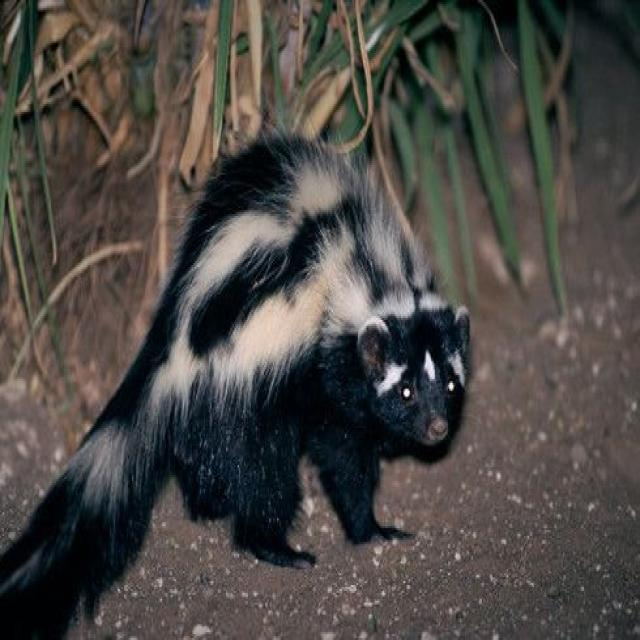Skunk: (0, 71, 495, 639)
